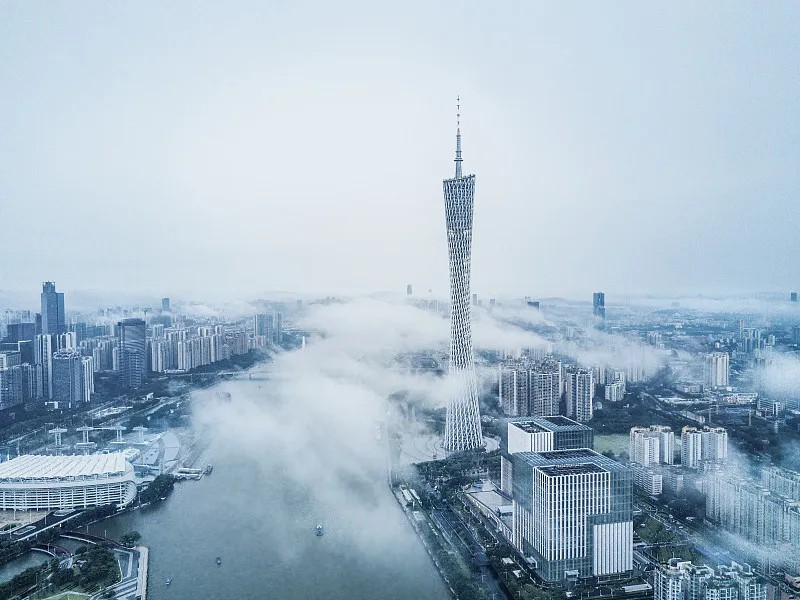Canton: (438, 93, 487, 454)
